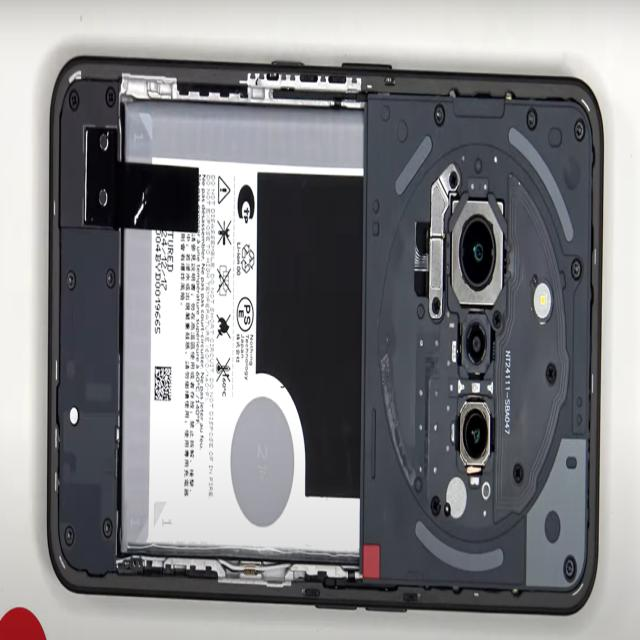Torx: (434, 104, 444, 126), (575, 121, 584, 140), (572, 262, 581, 278), (528, 112, 536, 129), (67, 275, 75, 290), (565, 561, 573, 576), (106, 274, 114, 288), (104, 520, 112, 534), (66, 527, 72, 544)
